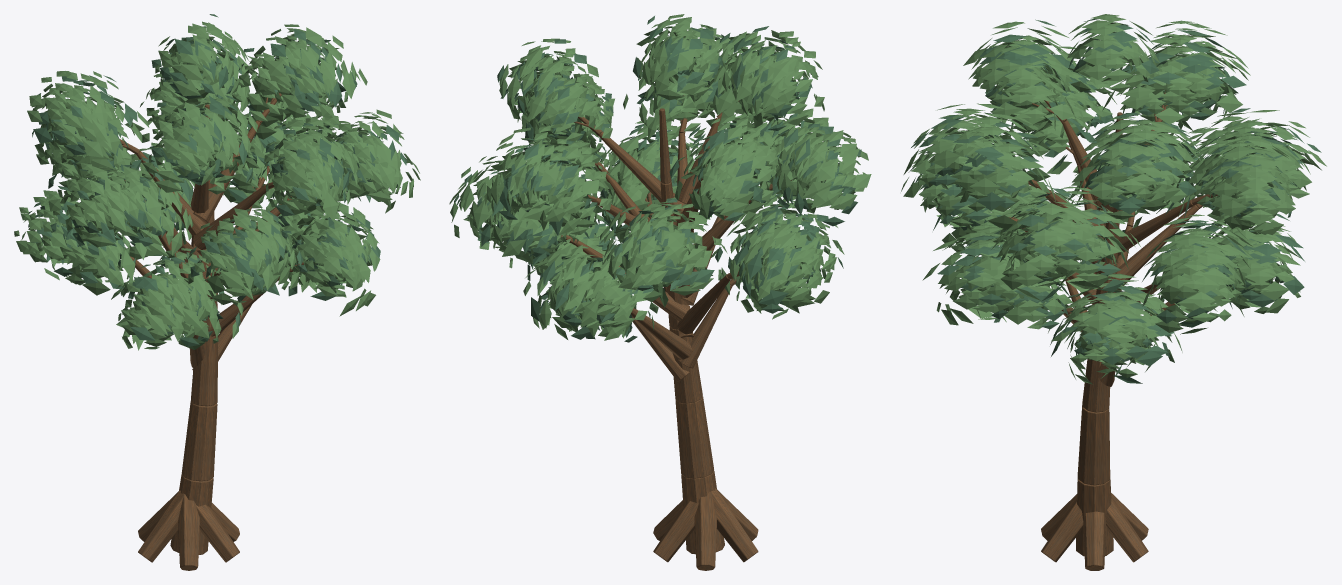
The model's file is linden_lean.glb.
3 views of the same model, side by side, from view 1: azimuth 30°, elevation 25°; view 2: azimuth 150°, elevation 25°; view 3: azimuth 270°, elevation 25° (orthographic). The views are drawn at different scales.
Parts seen in each view (by area): view 1: Airy supported leaf sprays.001, Airy supported leaf sprays, Tapered curved trunk, Primary angled limbs, Grounded buttress roots, Asymmetric crown tuft.001, Asymmetric crown tuft; view 2: Airy supported leaf sprays.001, Airy supported leaf sprays, Primary angled limbs, Tapered curved trunk, Grounded buttress roots, Asymmetric crown tuft.001, Asymmetric crown tuft, Rising outer limbs; view 3: Airy supported leaf sprays.001, Airy supported leaf sprays, Tapered curved trunk, Grounded buttress roots, Primary angled limbs, Asymmetric crown tuft.001, Asymmetric crown tuft.
Boxes of the visible parts, x1=… form: Airy supported leaf sprays.001: x1=14, y1=24, x2=420, y2=350; Airy supported leaf sprays: x1=28, y1=28, x2=406, y2=346; Tapered curved trunk: x1=170, y1=104, x2=217, y2=554; Primary angled limbs: x1=134, y1=120, x2=291, y2=370; Grounded buttress roots: x1=138, y1=490, x2=239, y2=570; Asymmetric crown tuft.001: x1=155, y1=21, x2=248, y2=104; Asymmetric crown tuft: x1=160, y1=14, x2=233, y2=99; Airy supported leaf sprays.001: x1=449, y1=24, x2=871, y2=340; Airy supported leaf sprays: x1=454, y1=26, x2=861, y2=342; Primary angled limbs: x1=575, y1=118, x2=751, y2=381; Tapered curved trunk: x1=659, y1=108, x2=724, y2=554; Grounded buttress roots: x1=653, y1=488, x2=758, y2=570; Asymmetric crown tuft.001: x1=636, y1=14, x2=726, y2=101; Asymmetric crown tuft: x1=633, y1=16, x2=723, y2=87; Rising outer limbs: x1=561, y1=100, x2=791, y2=286; Airy supported leaf sprays.001: x1=901, y1=20, x2=1326, y2=384; Airy supported leaf sprays: x1=908, y1=19, x2=1321, y2=383; Tapered curved trunk: x1=1076, y1=112, x2=1122, y2=556; Grounded buttress roots: x1=1041, y1=493, x2=1148, y2=570; Primary angled limbs: x1=1024, y1=120, x2=1198, y2=386; Asymmetric crown tuft.001: x1=1067, y1=14, x2=1159, y2=95; Asymmetric crown tuft: x1=1068, y1=18, x2=1159, y2=92.
Size of the model in its own units: 3.37 by 4.83 by 3.43.
Materials: 4 (2 with a texture image).
